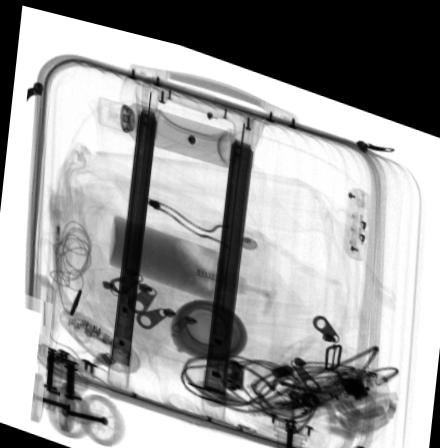Sprayer: (97, 91, 241, 156)
